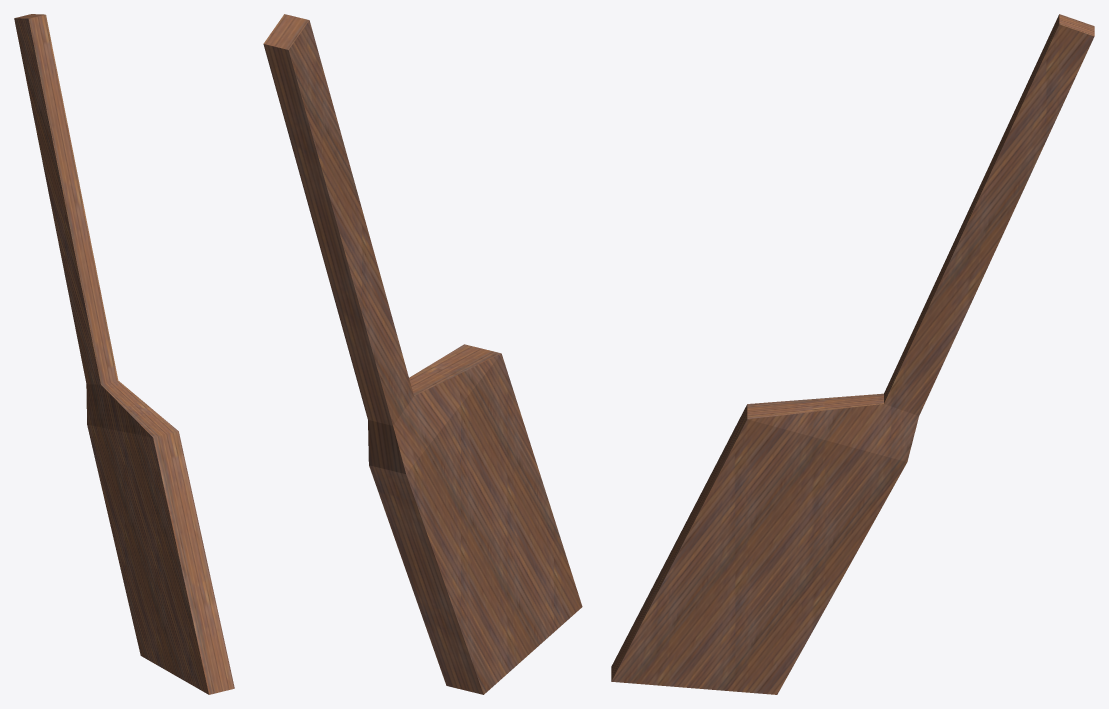
Rendered from HQRudder.fbx.
3 renders of one model, left to right at view 1: azimuth 30°, elevation 25°; view 2: azimuth 150°, elevation 25°; view 3: azimuth 270°, elevation 25°, orthographic. The views are drawn at different scales.
Parts seen in each view (by area): view 1: Rudder; view 2: Rudder; view 3: Rudder.
Part boxes in pixels (x1,y1,x2,y2): Rudder: (14, 14, 234, 694); Rudder: (263, 14, 582, 694); Rudder: (611, 14, 1094, 694).
Bounding box in the file's own units: 0.1137 × 1.52 × 2.32.
1 material, 1 textured.
